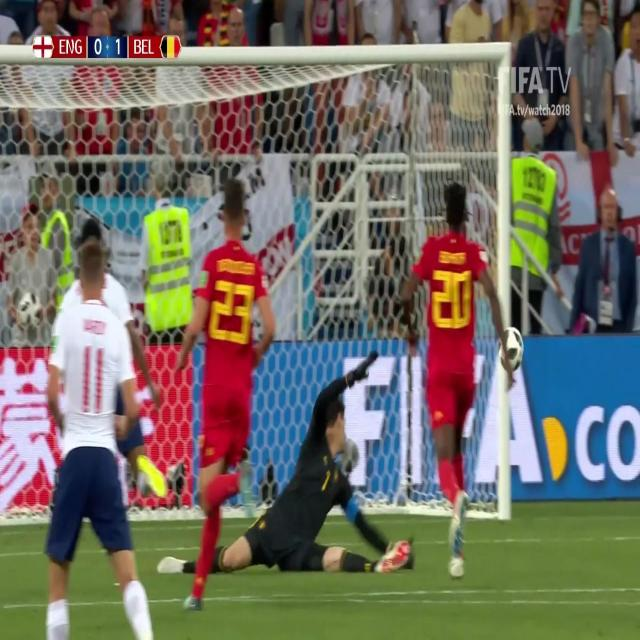ball: (501, 324, 526, 372)
player: (33, 203, 166, 640), (171, 168, 282, 622), (222, 361, 411, 587), (403, 171, 504, 574)
